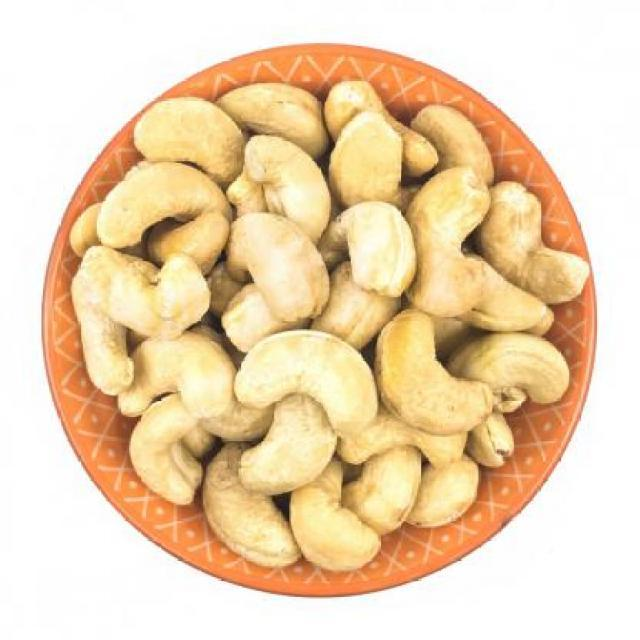Frutta secca: (80, 76, 582, 587)
